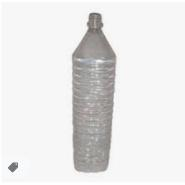plastic_bottle: (68, 12, 116, 174)
